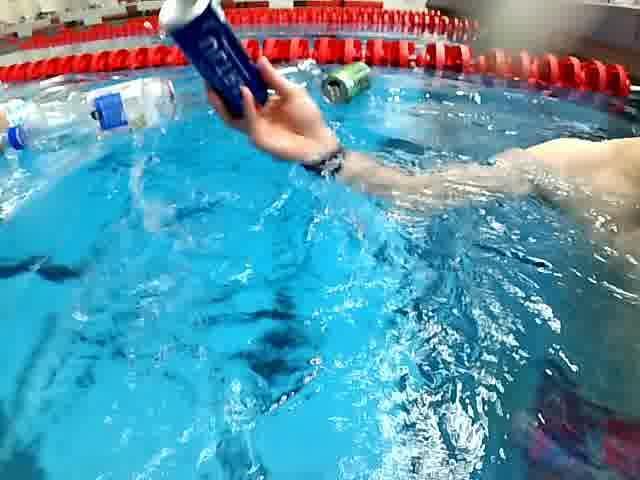Bottle: (7, 76, 176, 150)
Can: (159, 0, 269, 121), (320, 61, 372, 105)
